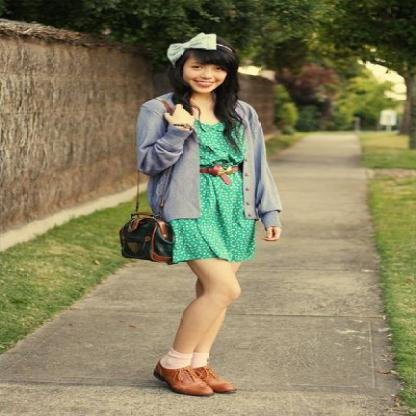bag: (119, 214, 179, 264)
dress: (170, 125, 254, 262)
jacket: (136, 92, 296, 232)
shoe: (153, 361, 236, 396)
